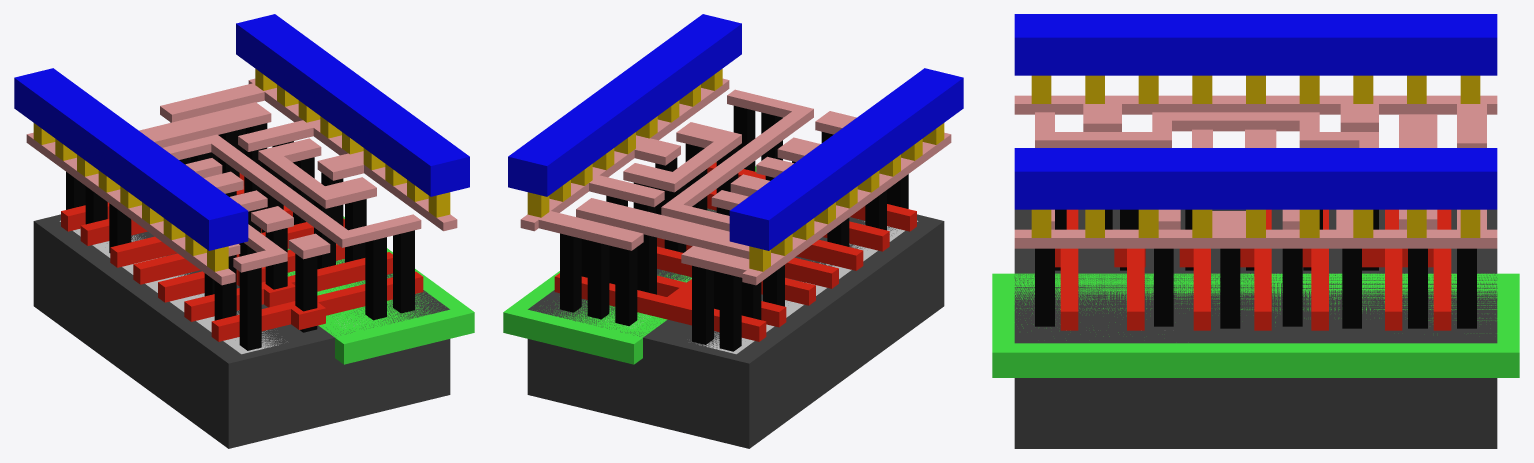
Rendered from sky130_fd_sc_hd__a311o_2.obj.
The picture shows the model from 3 angles, left to right: view 1: azimuth 30°, elevation 25°; view 2: azimuth 150°, elevation 25°; view 3: azimuth 270°, elevation 25°; orthographic projection. The views are drawn at different scales.
Parts seen in each view (by area): view 1: subs, metal1, li, licon, poly, nwell, mcon, diff; view 2: subs, metal1, li, licon, poly, nwell, mcon, diff; view 3: metal1, subs, li, nwell, poly, licon, mcon.
Boxes of the visible parts, box(x1,y1,x2,y2) form: subs: box(33, 214, 450, 448); metal1: box(14, 14, 469, 250); li: box(26, 78, 457, 285); licon: box(66, 122, 414, 350); poly: box(61, 173, 423, 341); nwell: box(261, 216, 474, 364); mcon: box(33, 68, 450, 271); diff: box(59, 220, 287, 354); subs: box(527, 208, 944, 448); metal1: box(508, 14, 963, 250); li: box(520, 78, 951, 285); licon: box(560, 105, 908, 351); poly: box(554, 162, 916, 341); nwell: box(503, 162, 756, 364); mcon: box(527, 68, 944, 271); diff: box(696, 220, 918, 354); metal1: box(1014, 14, 1497, 209); subs: box(1014, 209, 1497, 448); li: box(1014, 95, 1497, 248); nwell: box(992, 273, 1519, 377); poly: box(1055, 209, 1451, 330); licon: box(1035, 209, 1476, 328); mcon: box(1031, 75, 1480, 237).
Bounding box in the file's own units: 3.2 × 2.74 × 4.52.
